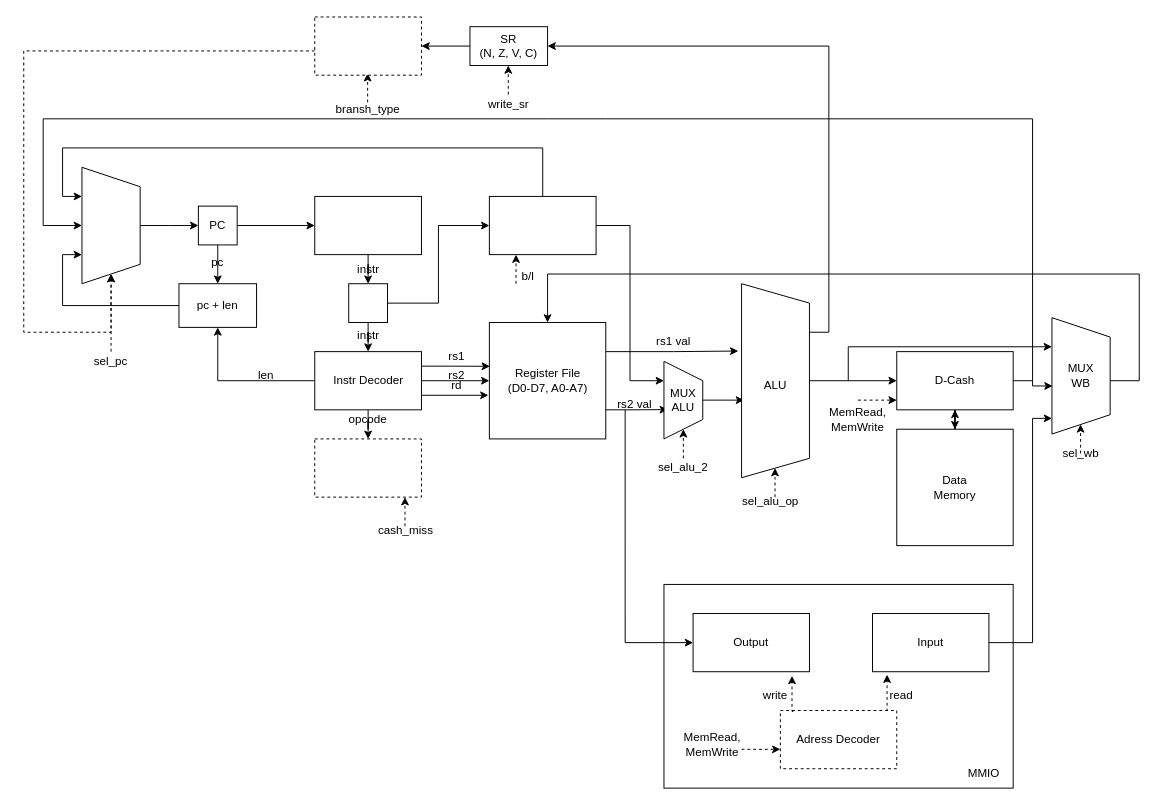
This 1164x805 diagram has some shape labels left out. The centre of each missing label's shape, as x and y in pixels:
"Branch Condition" belongs at pixel 367 45.
"Control Unit" belongs at pixel 367 467.
"IMM Generator" belongs at pixel 542 225.
"Instr Memory" belongs at pixel 367 225.
"IR" belongs at pixel 368 303.
"MUX PC" belongs at pixel 110 225.
